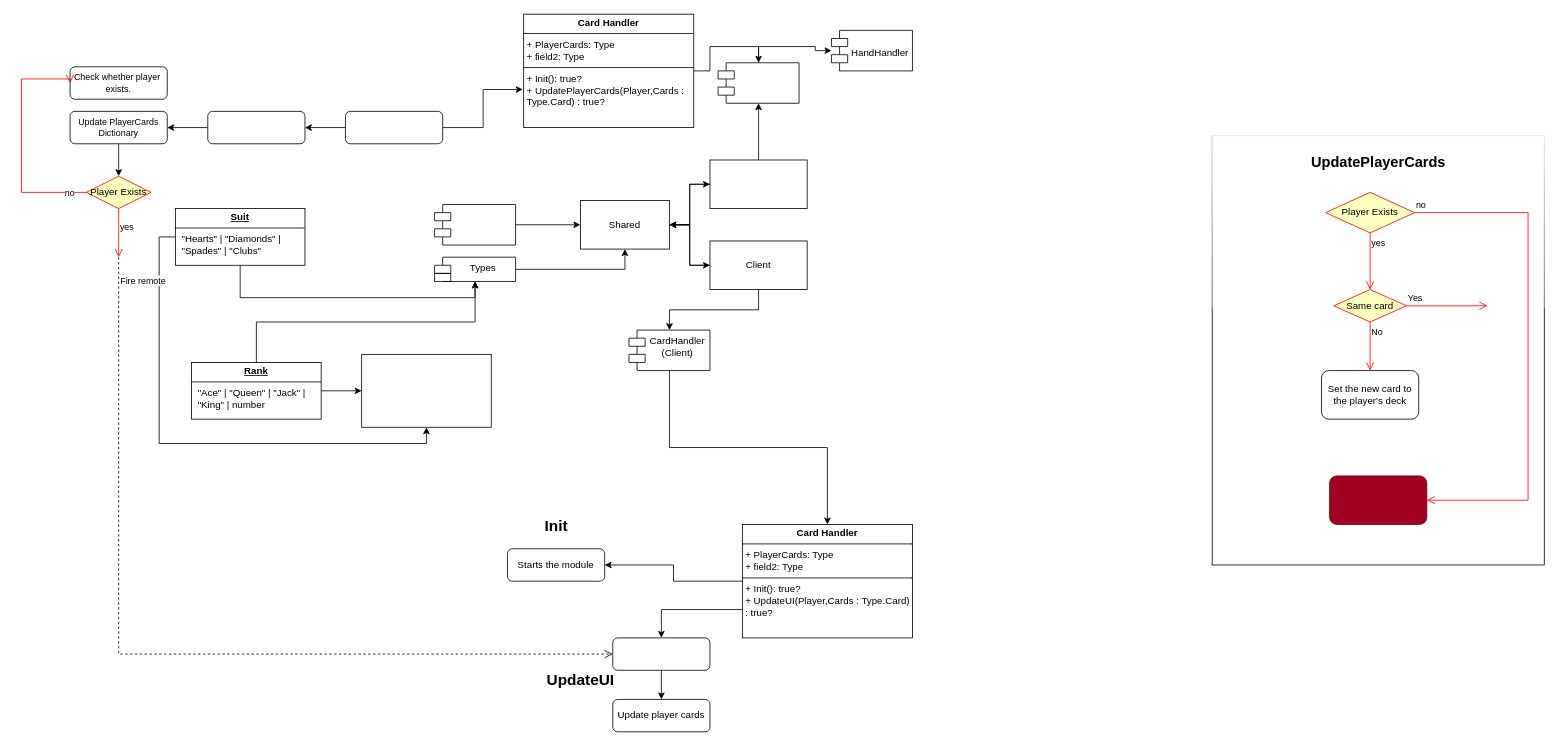
Some shapes in this 1558 by 746 pixel diagram are drawn without their labels. Each missing label, with the centre of its shape:
"Card Name = string Suit = Suit Rank = Rank" belongs at (426,390).
"Card Properties" belongs at (475,224).
"CardHandler (Server)" belongs at (758,82).
"Get Player Cards" belongs at (394,127).
"Gets the info properties of the card" belongs at (661,653).
"server" belongs at (758,184).
"STOP" belongs at (1378,499).
"Verify if the cards are not the same" belongs at (256,127).
